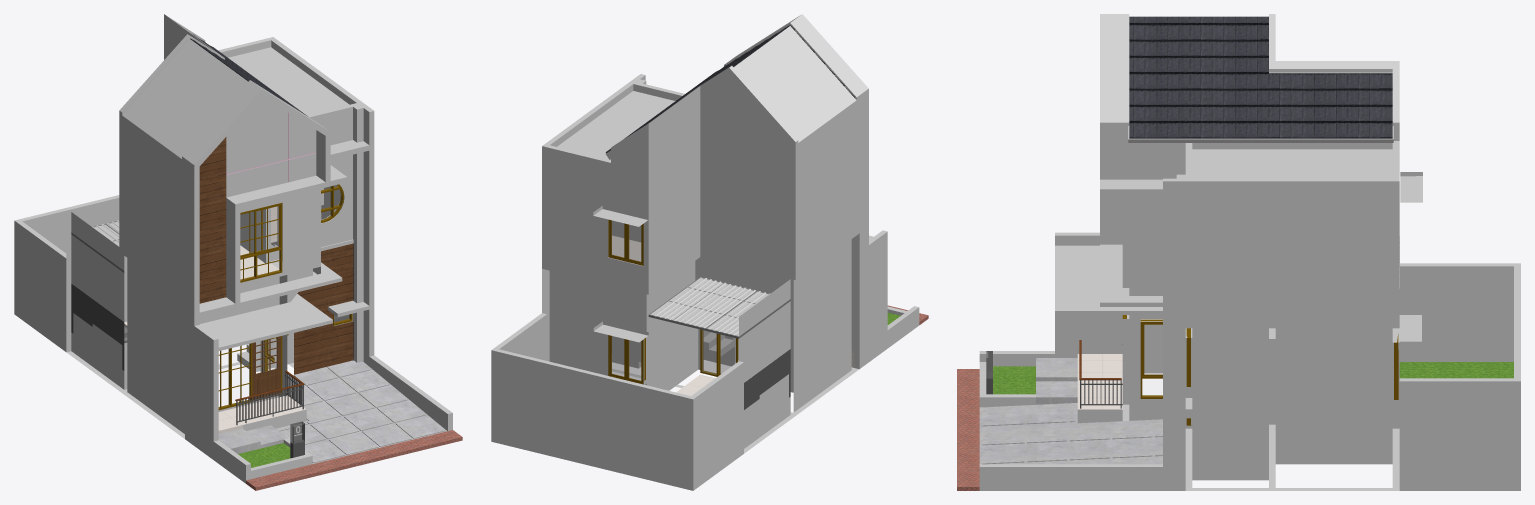
File: okina-61.glb
3 views of the same model, side by side, from view 1: azimuth 30°, elevation 25°; view 2: azimuth 150°, elevation 25°; view 3: azimuth 270°, elevation 25° (orthographic). The views are drawn at different scales.
Parts seen in each view (by area): view 1: ID19, ID643, ID450, ID356, ID128, ID543, ID912, ID172, ID237; view 2: ID19, ID4, ID356, ID128, ID730, ID237; view 3: ID19, ID237, ID643, ID172, ID543, ID356, ID128.
Boxes of the visible parts, x1,y1,x2,y2 form: ID19: (14, 14, 452, 483); ID643: (218, 360, 446, 463); ID450: (199, 137, 353, 374); ID356: (218, 184, 352, 410); ID128: (71, 284, 303, 425); ID543: (246, 430, 462, 490); ID912: (252, 336, 280, 401); ID172: (238, 443, 290, 467); ID237: (190, 34, 307, 116); ID19: (491, 14, 919, 490); ID4: (611, 220, 735, 380); ID356: (608, 219, 738, 384); ID128: (744, 349, 790, 409); ID730: (648, 277, 790, 338); ID237: (606, 25, 854, 152); ID19: (979, 14, 1520, 490); ID237: (1129, 16, 1392, 138); ID643: (979, 358, 1162, 464); ID172: (993, 362, 1513, 394); ID543: (957, 369, 979, 490); ID356: (1122, 315, 1398, 425); ID128: (1080, 380, 1122, 408).
Size of the model in its own units: 6.2 by 9.76 by 12.52.
20 materials, 11 textured.
